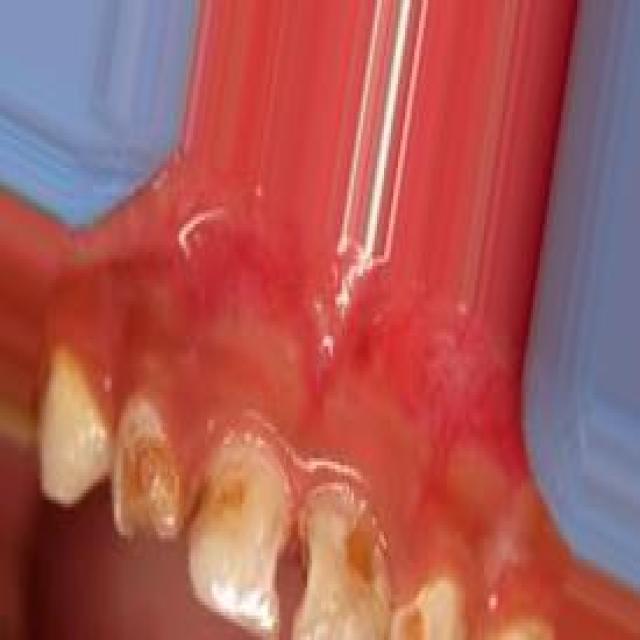caries: (184, 425, 294, 629), (288, 486, 396, 640), (108, 404, 181, 561), (394, 570, 436, 640)
